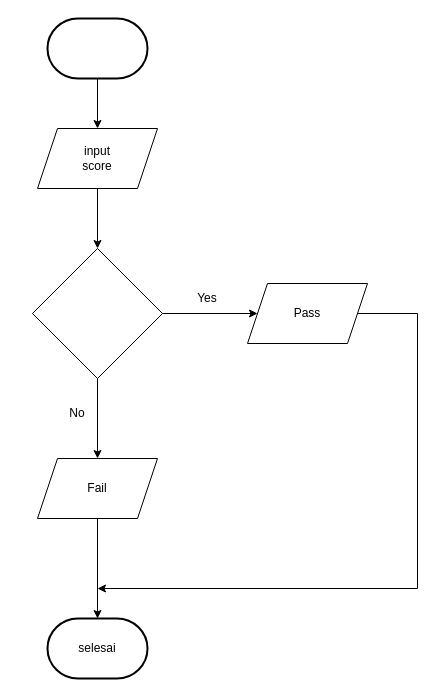
Image size: 443x696. Some labels were removed from this diagram. The centre of each missing label's shape, as x and y in pixels:
"? score >= 70" goes at (97,313).
"Mulai" goes at (97,48).
